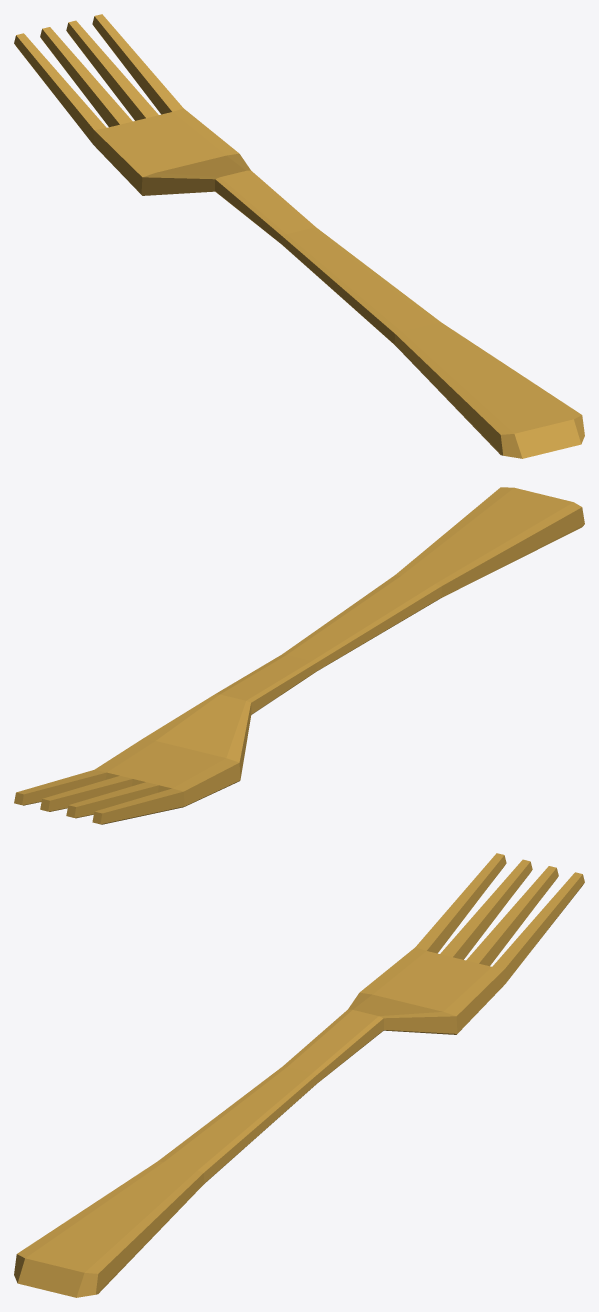
The model's file is jadalnia_widelec.fbx.
The picture shows the model from 3 angles, top to bottom: view 1: azimuth 30°, elevation 25°; view 2: azimuth 150°, elevation 25°; view 3: azimuth 330°, elevation 25°; orthographic projection.
Visible parts, largest first — view 1: Plane; view 2: Plane; view 3: Plane.
Boxes of the visible parts, <box> form: Plane: <box>14,14,584,458</box>; Plane: <box>14,487,584,824</box>; Plane: <box>14,853,584,1297</box>.
Bounding box in the file's own units: 1.51 × 0.9858 × 13.09.
